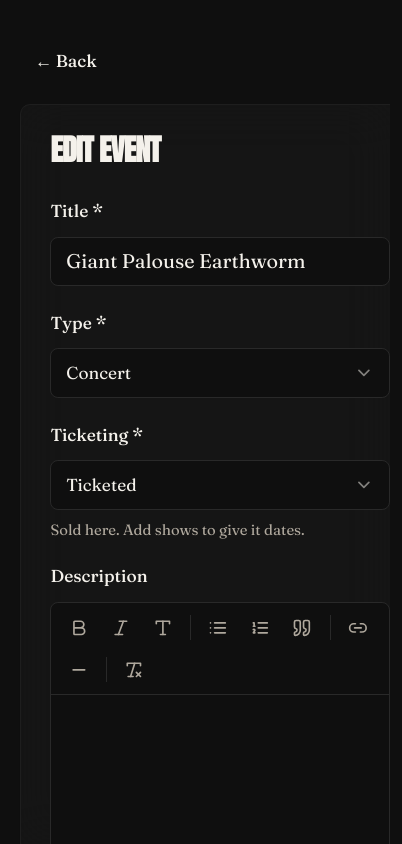
Test case: EventForm — one form, both questions › edits a legacy performance in place, offering only types its enum holds
Expected: the field labelled "Title *" holds "Giant Palouse Earthworm", [50,237,390,286]
Click the dropdown named "Type *" at (99, 372), box [50,348,390,398]
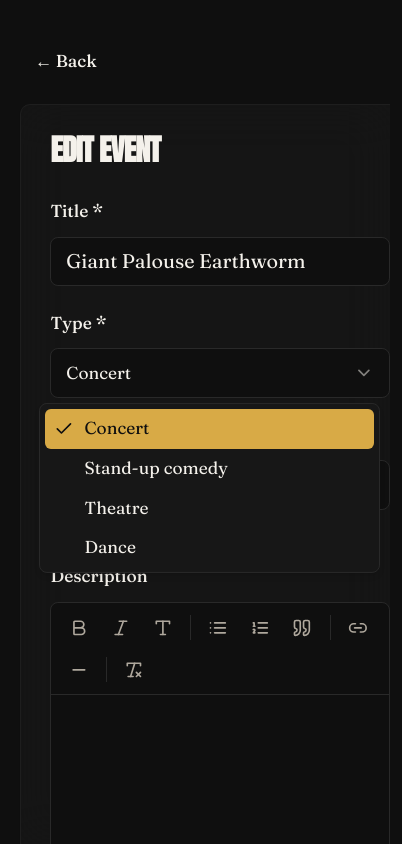
Result: the option "Concert" is shown at [45,409,374,448]
